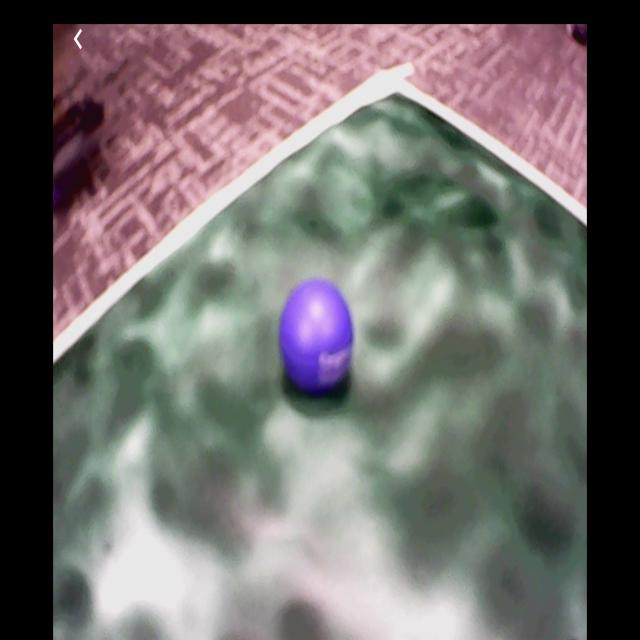ball: (276, 279, 354, 394)
